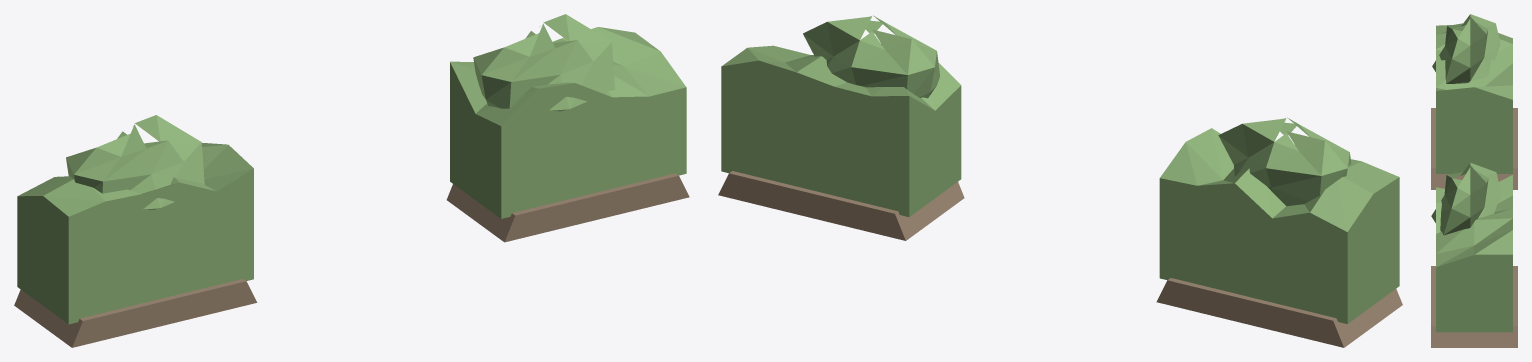
File: arable-fields-and-farm-machinery-hedgerow-run-with-gap-ea488851__16882.glb
3 renders of one model, left to right at view 1: azimuth 30°, elevation 25°; view 2: azimuth 150°, elevation 25°; view 3: azimuth 270°, elevation 25°, orthographic. The views are drawn at different scales.
Visible parts, largest first — view 1: hedgerow-run-with-gap; view 2: hedgerow-run-with-gap; view 3: hedgerow-run-with-gap.
Boxes of the visible parts, left/top/right/bottom form: hedgerow-run-with-gap: left=14, top=14, right=689, bottom=347; hedgerow-run-with-gap: left=718, top=15, right=1402, bottom=347; hedgerow-run-with-gap: left=1431, top=14, right=1517, bottom=347.
Bounding box in the file's own units: 8 × 2.29 × 1.3.
